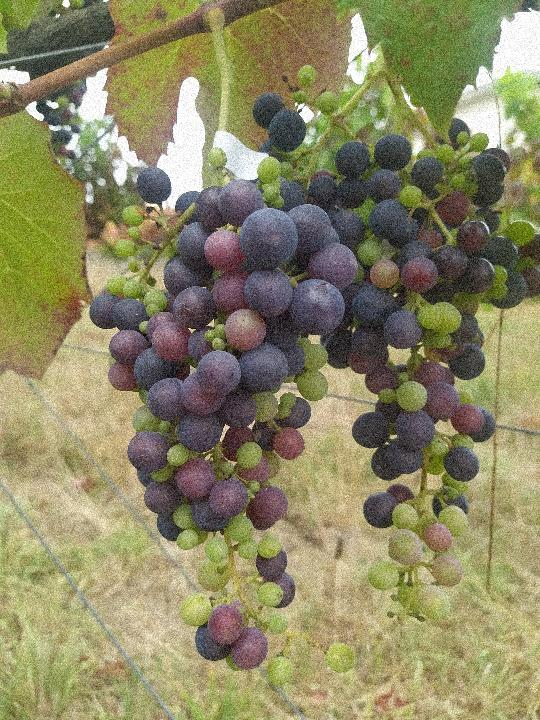grape: (250, 65, 540, 634), (84, 149, 358, 691)
